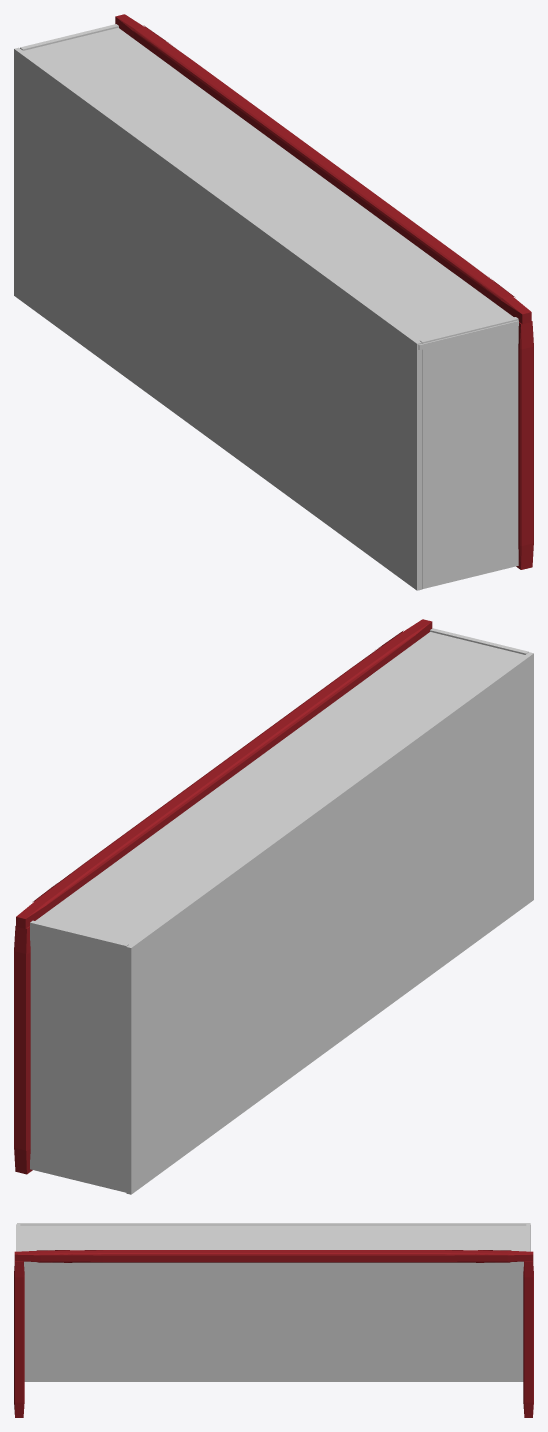
The model's file is baliza.blend2.fbx.
3 views of the same model, one above another, from view 1: azimuth 30°, elevation 25°; view 2: azimuth 150°, elevation 25°; view 3: azimuth 270°, elevation 25° (orthographic). The views are drawn at different scales.
Parts seen in each view (by area): view 1: Cube, Cube.004, Cube.005, Cube.003, Cube.001; view 2: Cube, Cube.004, Cube.006, Cube.003, Cube.002; view 3: Cube, Cube.004, Cube.003, Cube.002, Cube.001.
Part boxes in pixels (bbox=[...]): Cube: bbox=[14, 47, 421, 590]; Cube.004: bbox=[24, 27, 518, 350]; Cube.005: bbox=[419, 317, 518, 589]; Cube.003: bbox=[115, 14, 531, 324]; Cube.001: bbox=[516, 321, 533, 569]; Cube: bbox=[126, 652, 533, 1194]; Cube.004: bbox=[35, 632, 524, 944]; Cube.006: bbox=[30, 920, 128, 1192]; Cube.003: bbox=[16, 619, 432, 928]; Cube.002: bbox=[14, 926, 32, 1174]; Cube: bbox=[17, 1223, 530, 1381]; Cube.004: bbox=[16, 1224, 526, 1251]; Cube.003: bbox=[14, 1250, 533, 1262]; Cube.002: bbox=[523, 1261, 533, 1417]; Cube.001: bbox=[14, 1261, 24, 1417].
Bounding box in the file's own units: 240 × 512 × 1468.
